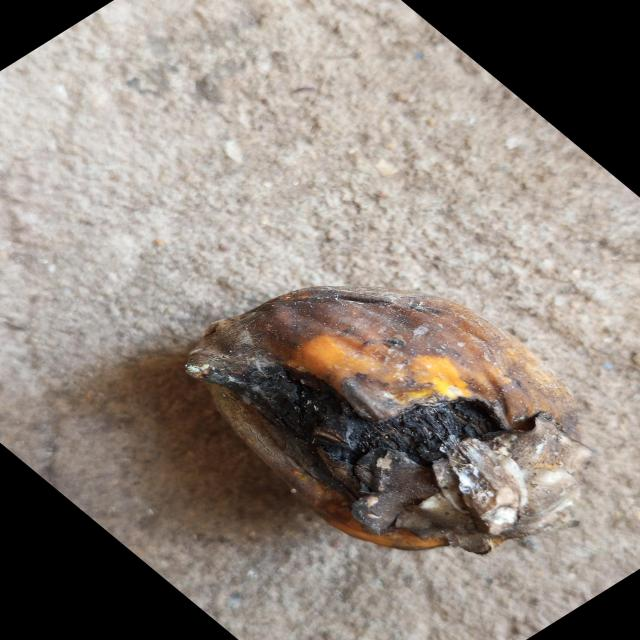damaged: (182, 287, 585, 557)
